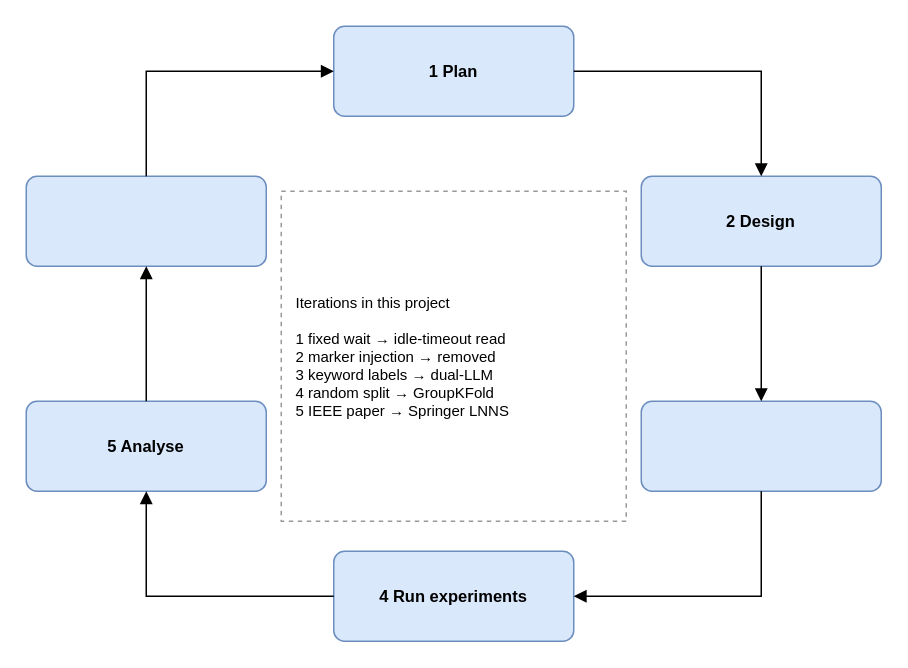
The diagram is 908 pixels wide and 668 high, and some of its shapes have lost their labels. The shapes that lost their labels are listed below. From the top down, each one's box as (x1, y1, x2, y2) in pixels, then its label:
(25, 175, 266, 266): 6 Review, refine
(640, 400, 881, 491): 3 Build
